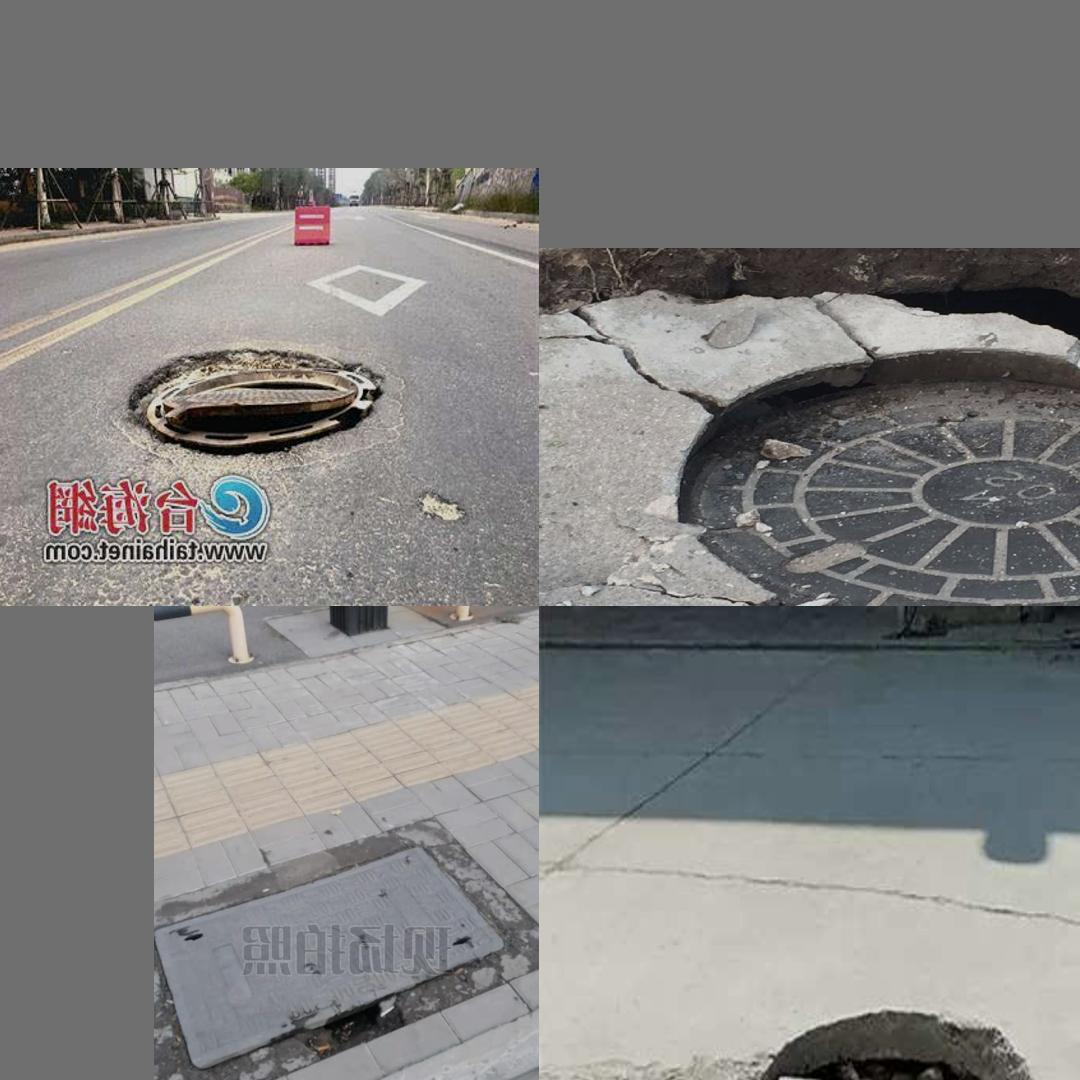circle: (549, 262, 1080, 602), (154, 817, 534, 1080), (89, 336, 439, 480), (652, 985, 1069, 1080)
